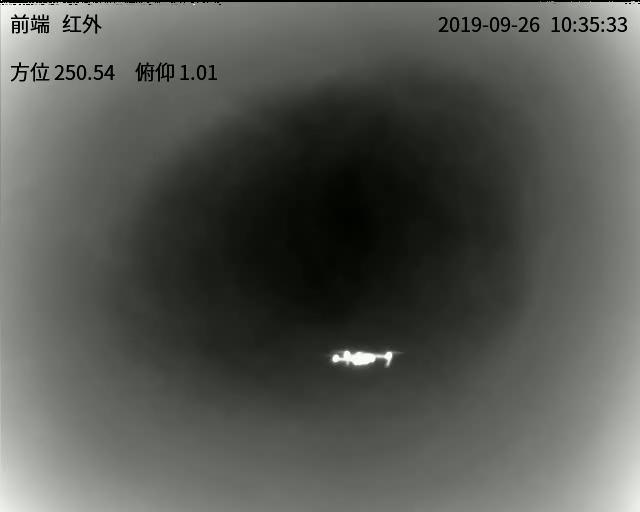uav: (322, 343, 400, 370)
